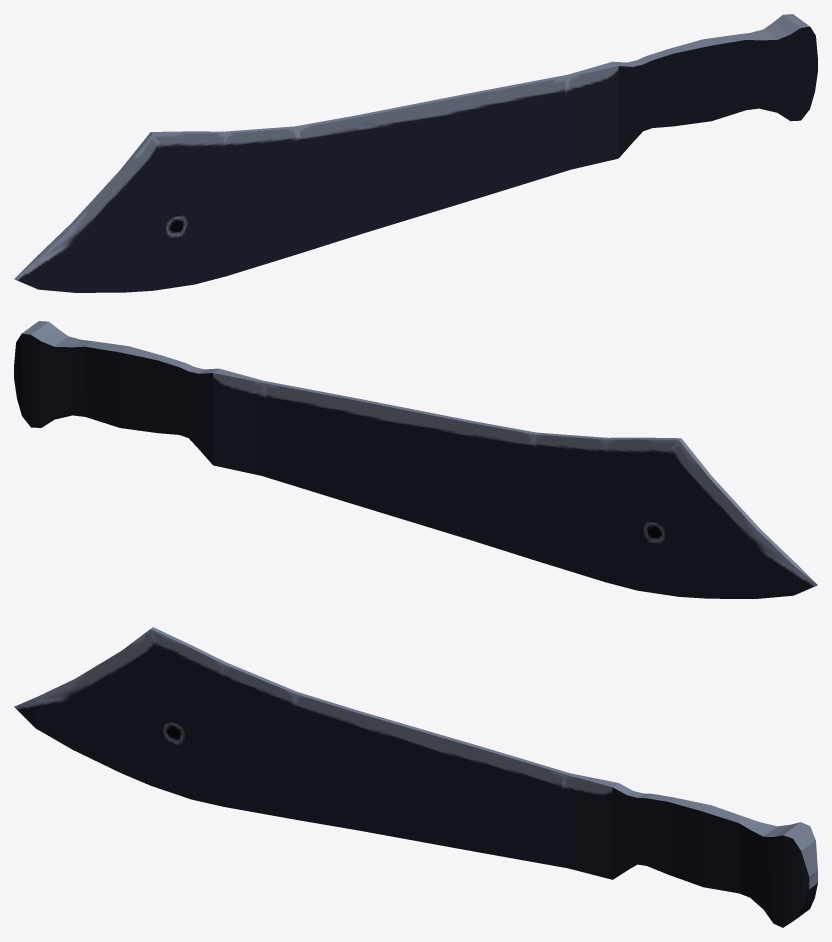
The model's file is Machet.fbx.
3 views of the same model, one above another, from view 1: azimuth 30°, elevation 25°; view 2: azimuth 150°, elevation 25°; view 3: azimuth 330°, elevation 25° (orthographic).
Visible parts, largest first — view 1: Cube; view 2: Cube; view 3: Cube.
Boxes of the visible parts, <box> form: Cube: <box>14,14,817,292</box>; Cube: <box>14,321,817,598</box>; Cube: <box>14,627,817,927</box>.
Size of the model in its own units: 1206 by 232 by 47.01.
Materials: 1 (1 with a texture image).
